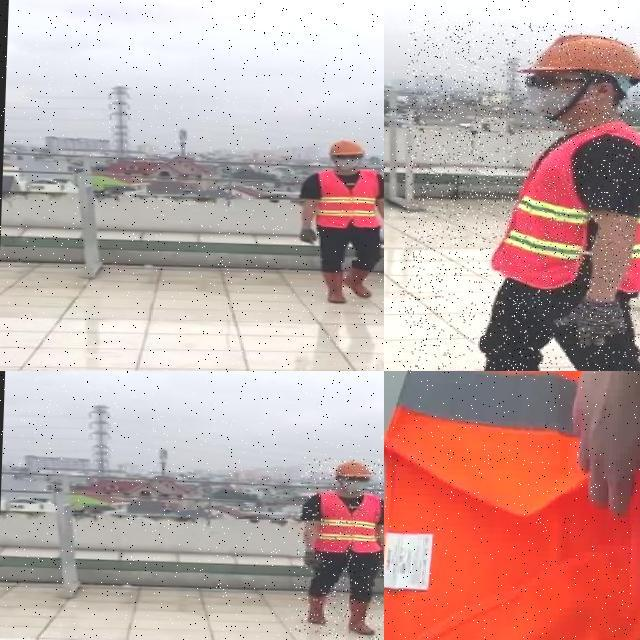boots: (346, 597, 381, 636), (302, 592, 332, 624), (298, 225, 320, 244)
helmet: (528, 29, 640, 82), (331, 458, 374, 478), (328, 136, 365, 156)
vest: (384, 371, 640, 640), (491, 119, 640, 295), (316, 492, 384, 554), (315, 169, 378, 229)
